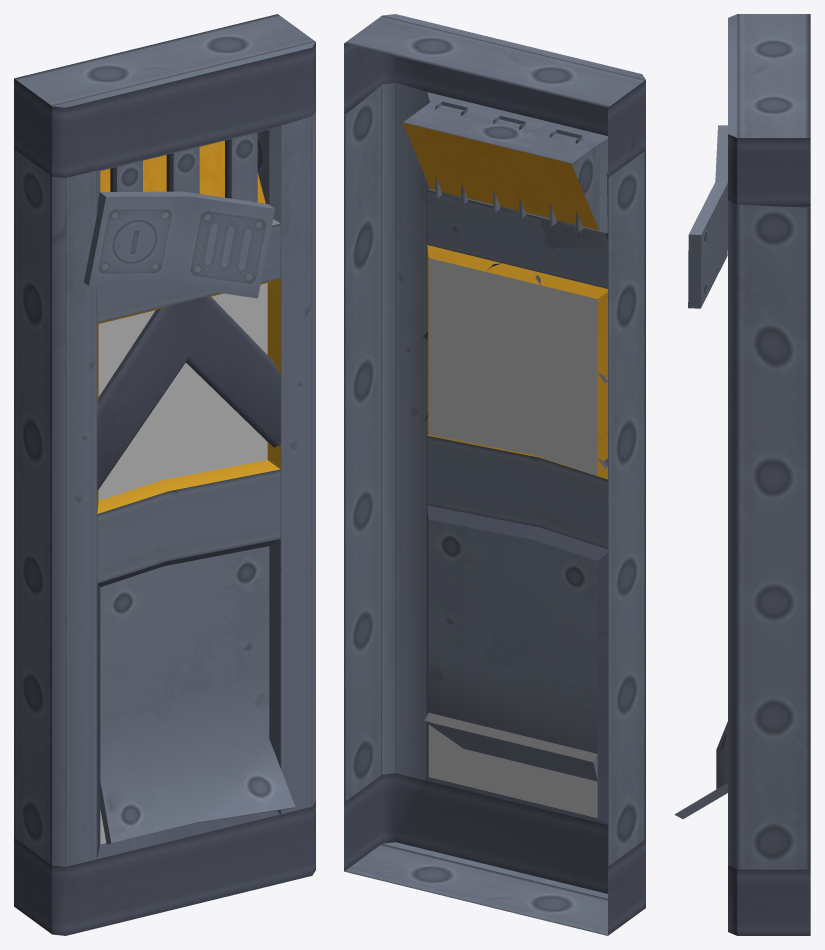
Rendered from obj_spaceship_wall01.fbx.
3 views of the same model, side by side, from view 1: azimuth 30°, elevation 25°; view 2: azimuth 150°, elevation 25°; view 3: azimuth 270°, elevation 25° (orthographic). The views are drawn at different scales.
Parts seen in each view (by area): view 1: polySurface231; view 2: polySurface231; view 3: polySurface231.
Boxes of the visible parts, bbox=[...] form: polySurface231: bbox=[14, 14, 315, 935]; polySurface231: bbox=[344, 14, 645, 935]; polySurface231: bbox=[674, 14, 810, 935].
Size of the model in its own units: 4 by 12 by 1.86.
